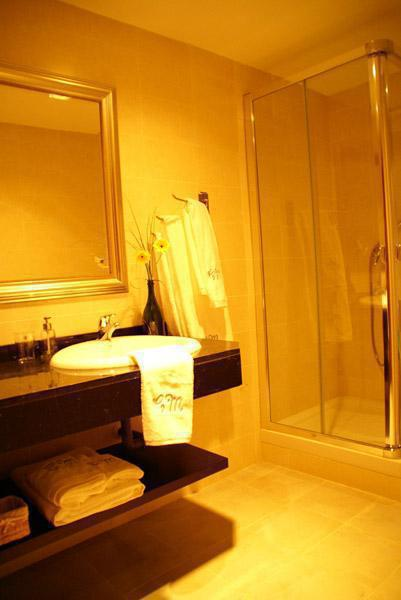Ducha: (249, 71, 394, 484)
Lavamanos: (49, 303, 217, 386)
